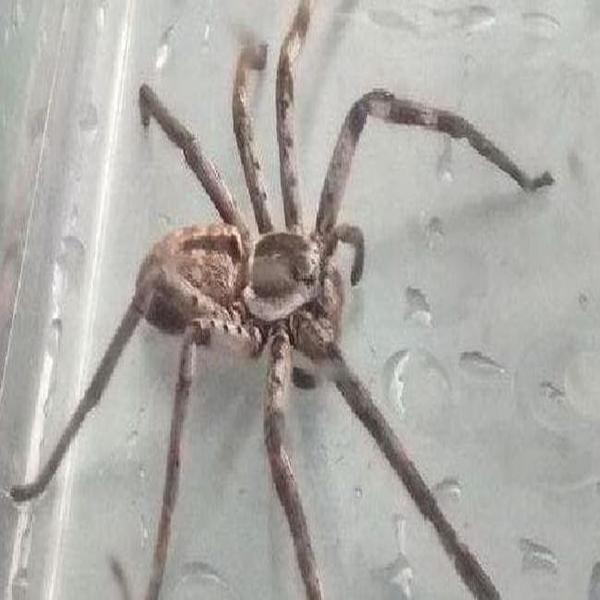Huntsman Spider: (51, 11, 509, 600)
